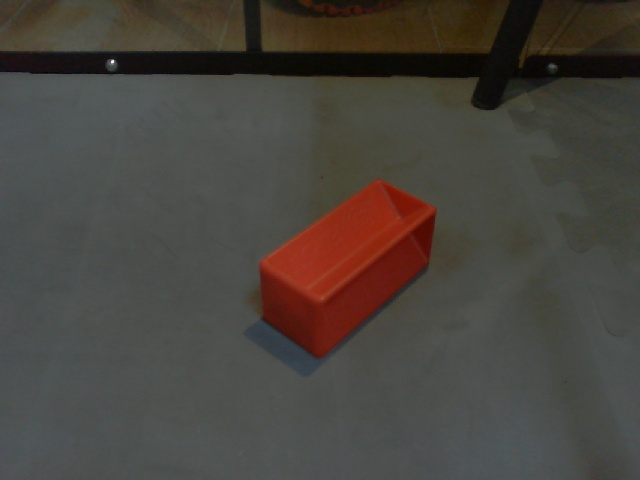RedSample: (257, 175, 438, 359)
